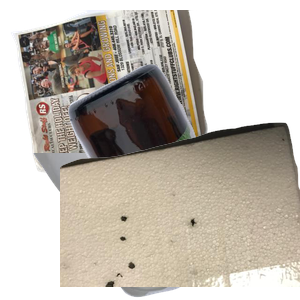glass: (66, 61, 300, 241)
paper: (10, 10, 210, 175)
plastic: (29, 153, 245, 300)
trash: (60, 120, 300, 300)
